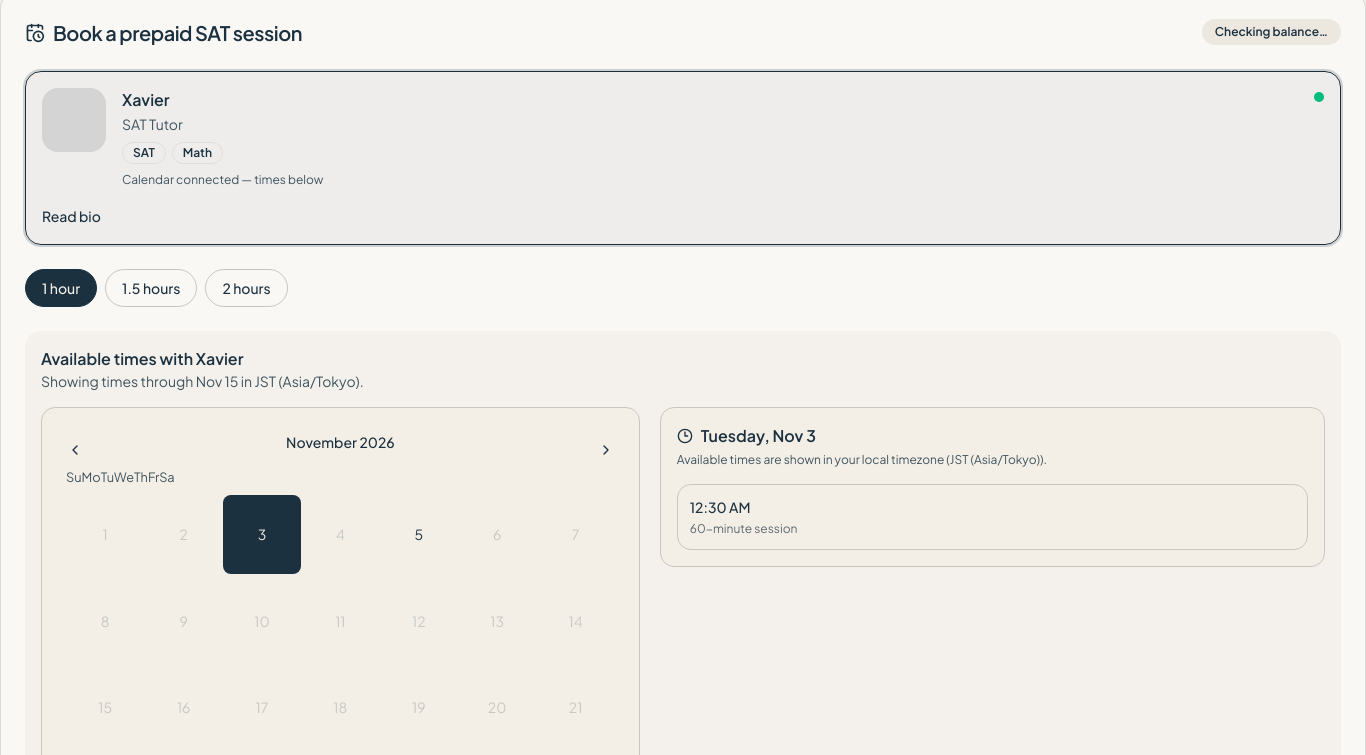
client availability calendar › remaining credit after cancel-restore unlocks booking instead of change-time copy
The width and height of the screenshot is (1366, 755).
Click the button "Xavier SAT Tutor SAT Math Calendar connected — times below" at (683, 138), box left=26, top=72, right=1340, bottom=204
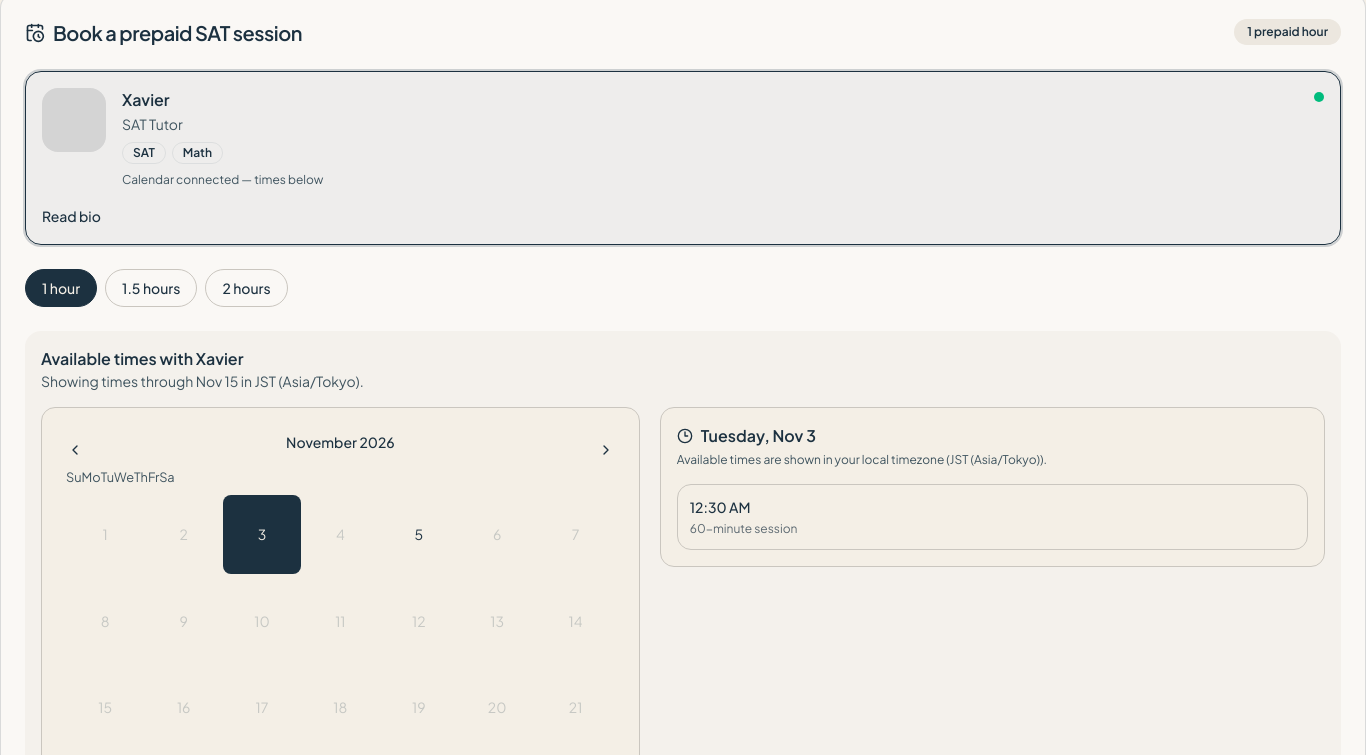
expect the text "1 prepaid hour" is shown: met, box left=1234, top=19, right=1341, bottom=45
Click the text "12:30 AM" at (720, 507), box left=690, top=498, right=750, bottom=516
(page scrolled)
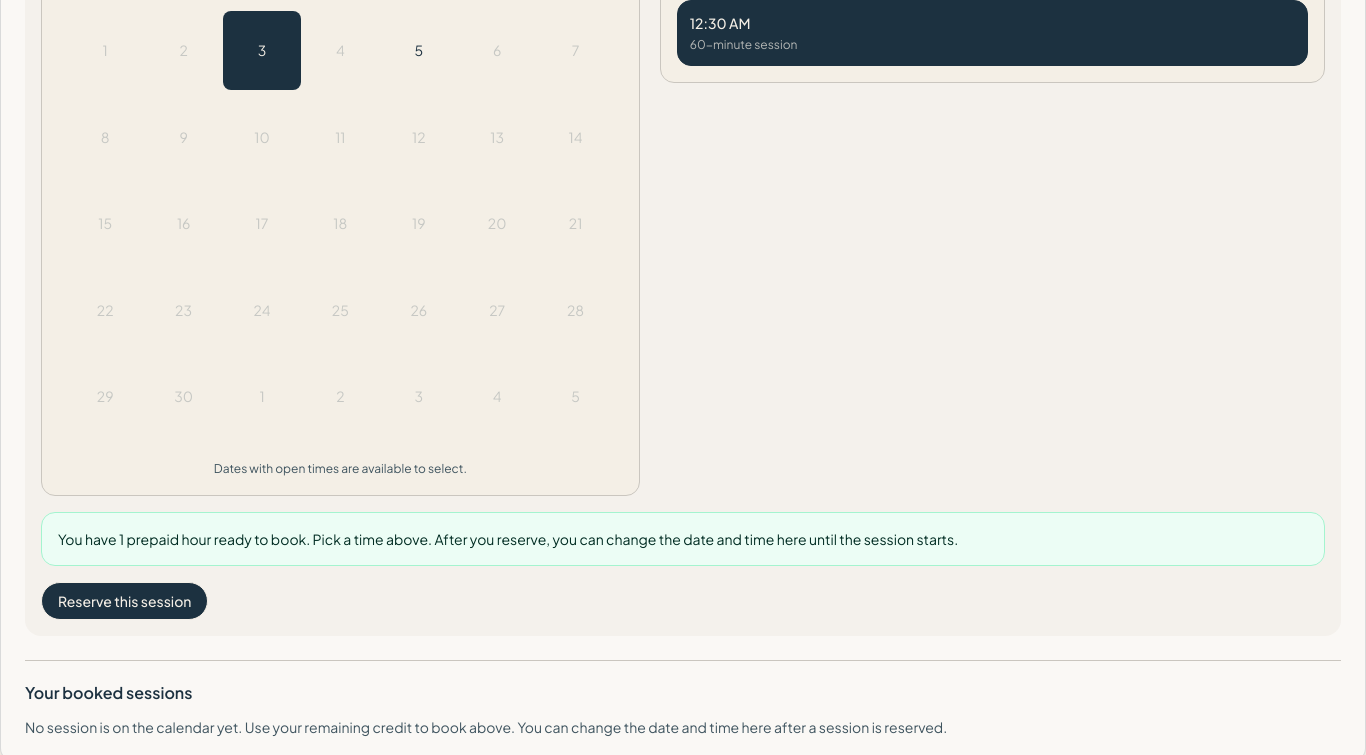
expect the button "Reserve this session" is enabled: met, box left=41, top=582, right=208, bottom=620
